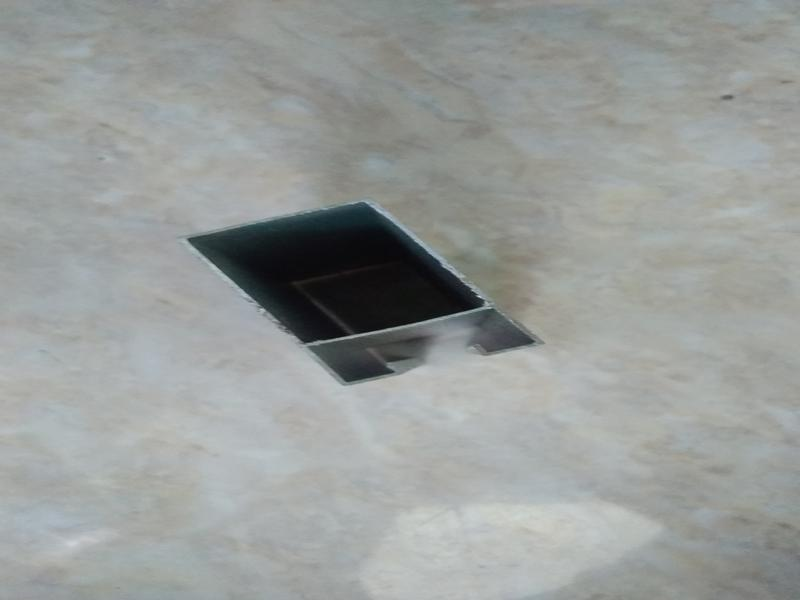Aluminium_1: (165, 195, 562, 399)
